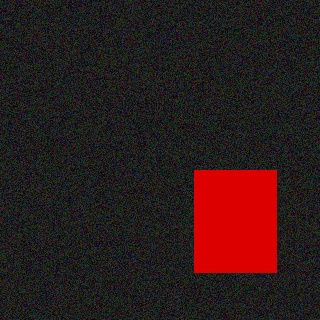red_barrel: (194, 170, 276, 273)
